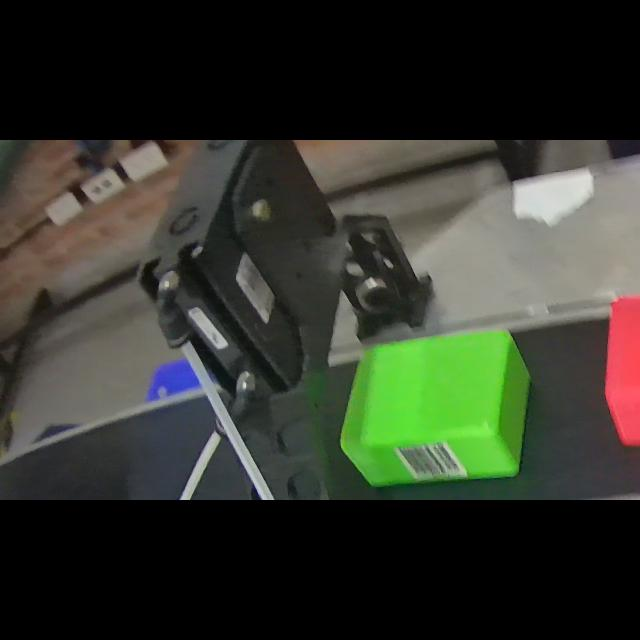redBox: (596, 279, 640, 447)
yellowBox: (328, 330, 538, 488)
